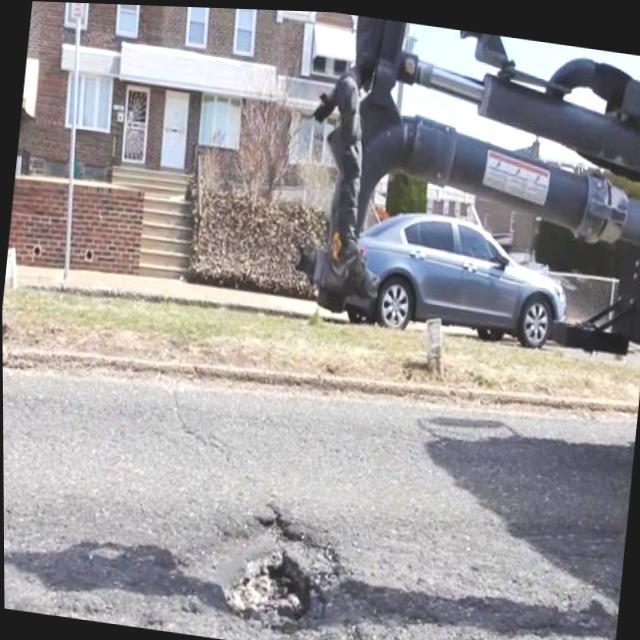Pothole: (158, 516, 363, 640)
